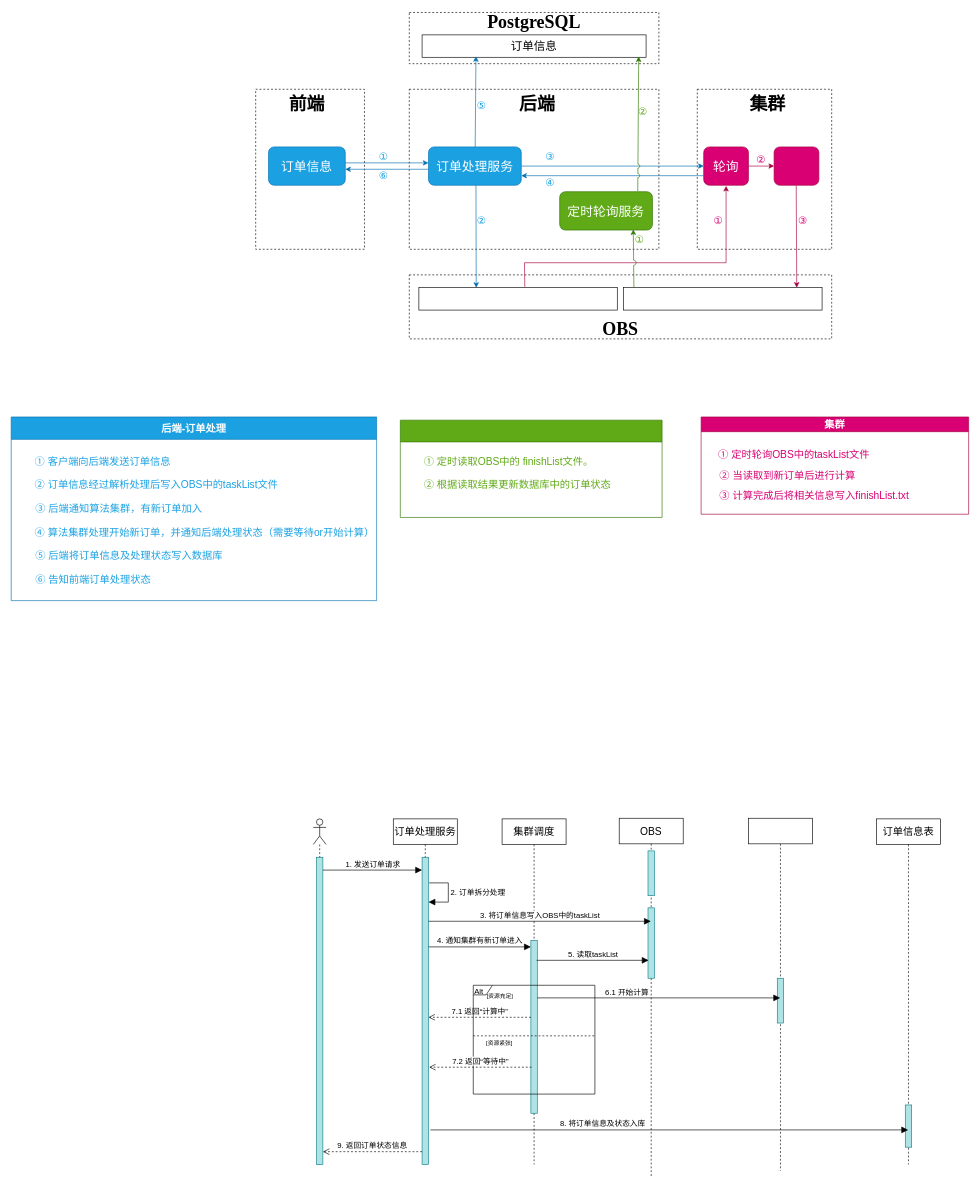
Image size: 980x1188. Some labels were removed from this diagram. Each missing label, with the box of its shape:
finishList.txt: (623, 287, 822, 310)
taskList.txt: (418, 287, 617, 310)
后端-定时轮询: (400, 420, 662, 517)
客户端: (313, 818, 326, 1164)
算法模块: (748, 818, 812, 1171)
计算: (773, 146, 819, 185)
